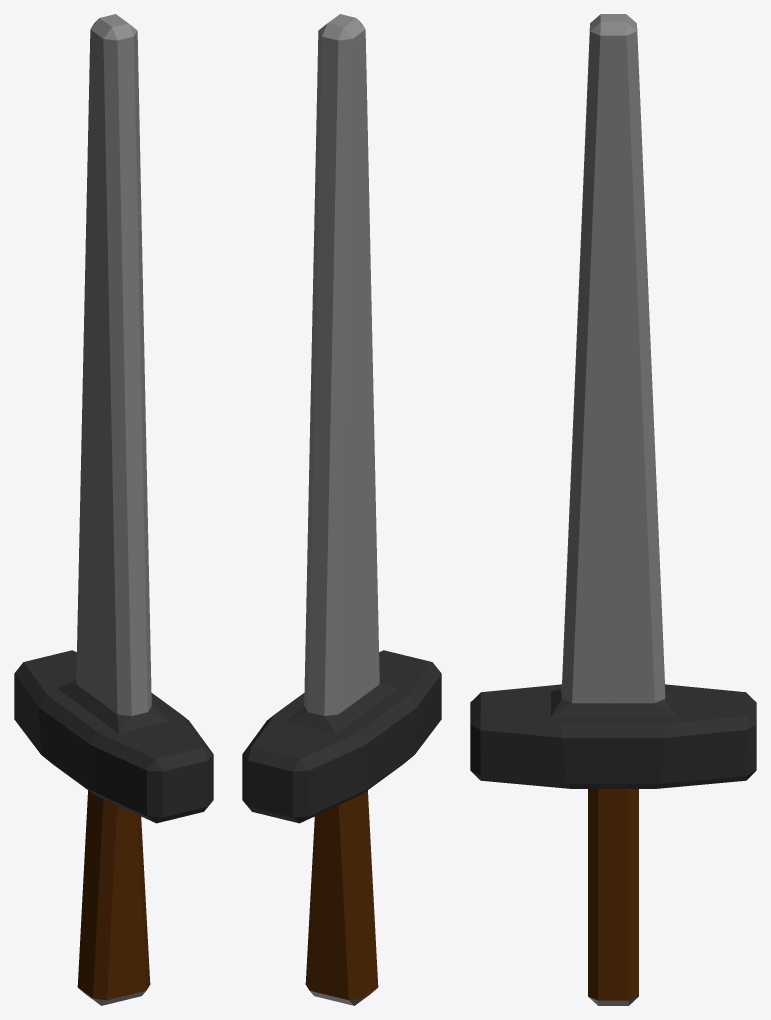
The model's file is sword.glb.
The picture shows the model from 3 angles, left to right: view 1: azimuth 30°, elevation 25°; view 2: azimuth 150°, elevation 25°; view 3: azimuth 270°, elevation 25°; orthographic projection.
Visible parts, largest first — view 1: Cube.002; view 2: Cube.002; view 3: Cube.002.
Boxes of the visible parts, x1,y1,x2,y2 form: Cube.002: (14,14,213,1005); Cube.002: (242,14,441,1005); Cube.002: (470,14,756,1005).
Bounding box in the file's own units: 3.21 × 30.16 × 8.
